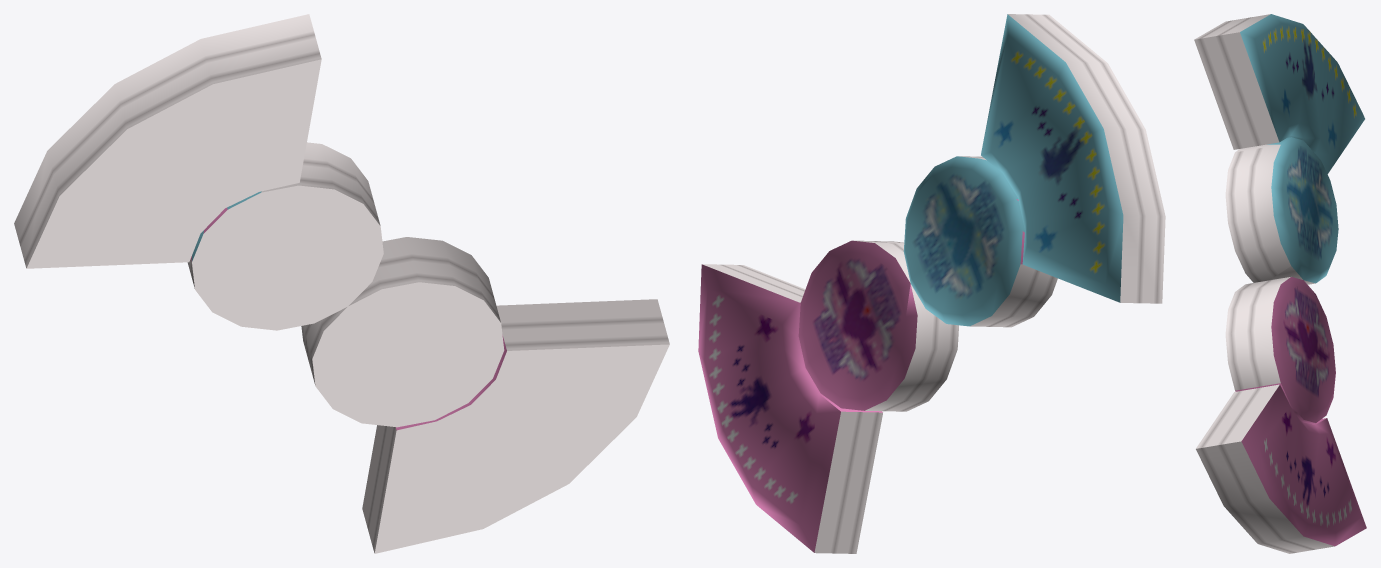
Rendered from icondata.0.obj.
3 views of the same model, side by side, from view 1: azimuth 30°, elevation 25°; view 2: azimuth 150°, elevation 25°; view 3: azimuth 270°, elevation 25° (orthographic). The views are drawn at different scales.
Bounding box in the file's own units: 3.43 × 3.44 × 1.17.
Materials: 1 (1 with a texture image).
